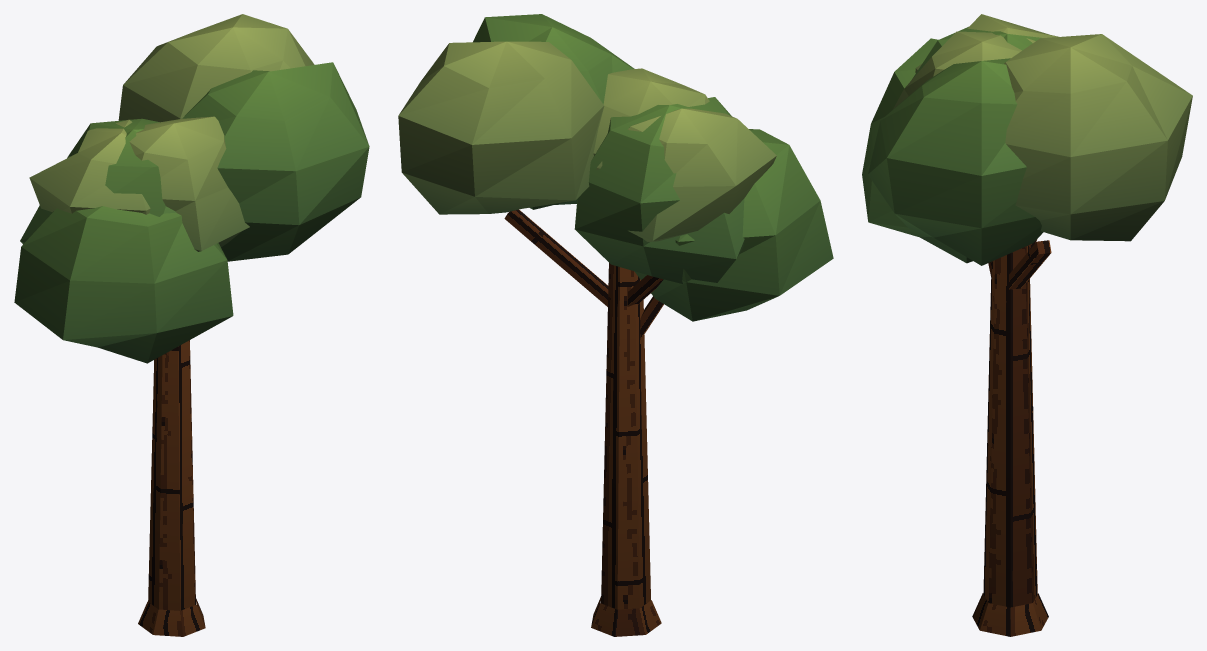
Rendered from birch_3_lowpoly.glb.
3 views of the same model, side by side, from view 1: azimuth 30°, elevation 25°; view 2: azimuth 150°, elevation 25°; view 3: azimuth 270°, elevation 25° (orthographic). The views are drawn at different scales.
Visible parts, largest first — view 1: birch_3_lowpoly; view 2: birch_3_lowpoly; view 3: birch_3_lowpoly.
Boxes of the visible parts, bbox=[...] form: birch_3_lowpoly: bbox=[14, 14, 369, 636]; birch_3_lowpoly: bbox=[398, 14, 833, 636]; birch_3_lowpoly: bbox=[862, 14, 1192, 636].
Size of the model in its own units: 3.88 by 6.26 by 3.03.
Materials: 2 (1 with a texture image).
